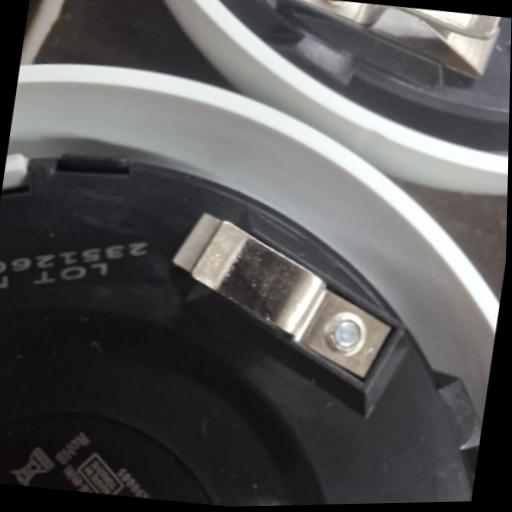yayli: (172, 213, 391, 377)
